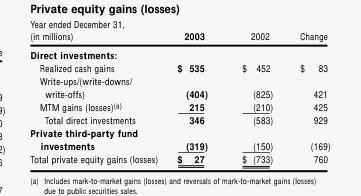table: (29, 29, 329, 164)
table column: (29, 29, 166, 164), (224, 29, 285, 164), (166, 29, 224, 164), (285, 29, 329, 164)
table column header: (29, 29, 329, 45)
table projected row header: (29, 45, 329, 60)
table row: (29, 73, 329, 99), (29, 125, 329, 151), (29, 29, 329, 45), (29, 45, 329, 60), (29, 60, 329, 73), (29, 99, 329, 112), (29, 112, 329, 125), (29, 151, 329, 164)
